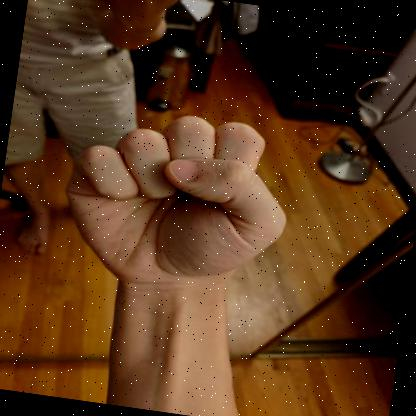S: (65, 115, 286, 294)
